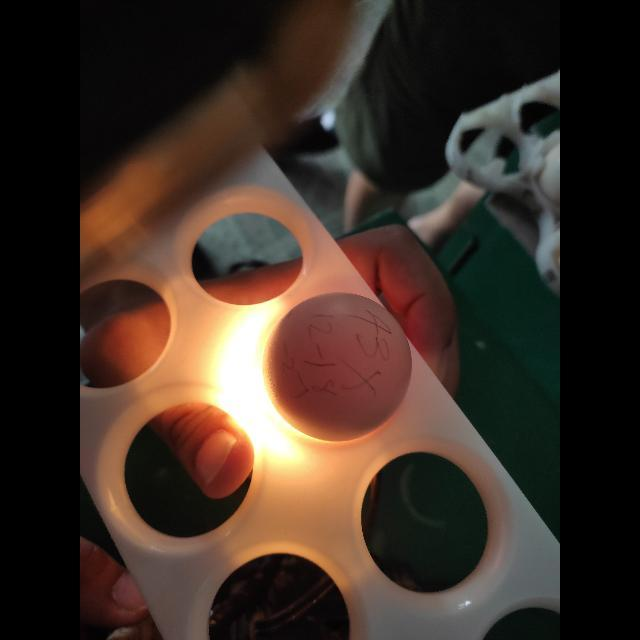Fertile: (262, 293, 414, 441)
